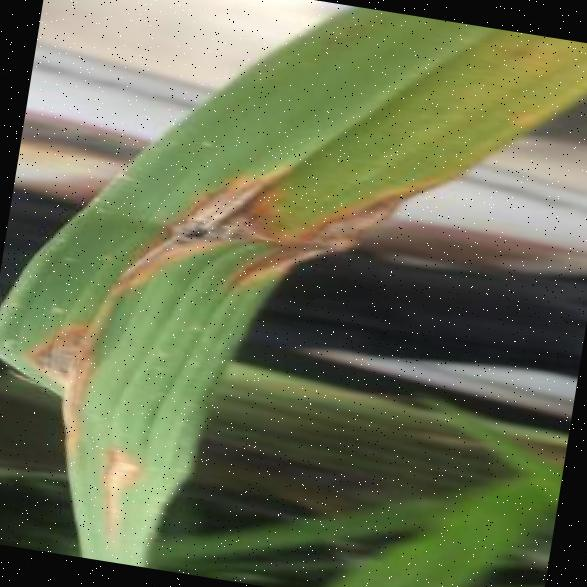Leaf_smut: (231, 142, 442, 300), (116, 128, 292, 298), (0, 272, 131, 429), (59, 418, 153, 534)
